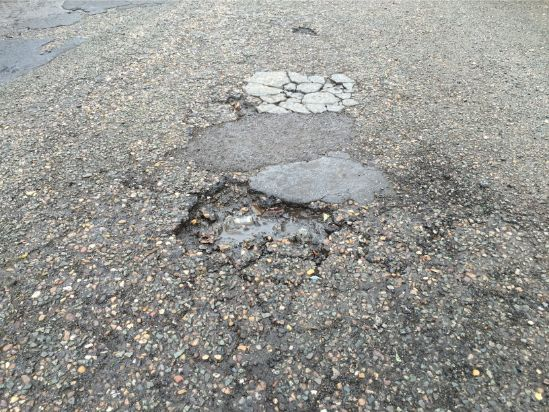pothole: (169, 176, 346, 271)
